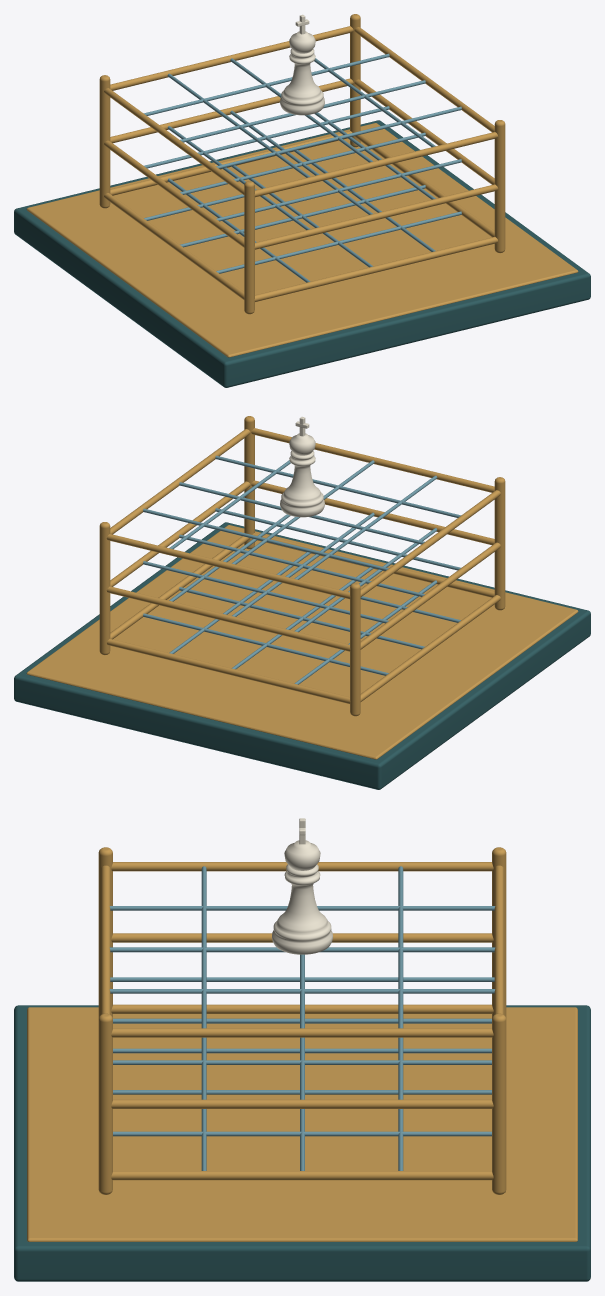
File: game_board.h.glb
3 renders of one model, top to bottom at view 1: azimuth 30°, elevation 25°; view 2: azimuth 150°, elevation 25°; view 3: azimuth 270°, elevation 25°, orthographic. The views are drawn at different scales.
Parts seen in each view (by area): view 1: Cube.001, Cube, K.002, Cylinder.010, Cylinder, Cylinder.020, Cylinder.022, Cylinder.033, Cylinder.032, Cylinder.030, Cylinder.012, Cylinder.013 (+24 smaller); view 2: Cube.001, Cube, K.002, Cylinder.012, Cylinder.002, Cylinder.022, Cylinder.020, Cylinder.031, Cylinder.030, Cylinder.032, Cylinder.010, Cylinder.013 (+24 smaller); view 3: Cube.001, Cube, K.002, Cylinder.001, Cylinder.011, Cylinder.021, Cylinder.003, Cylinder.023, Cylinder.013, Cylinder.031, Cylinder.033, Cylinder.008 (+14 smaller).
Boxes of the visible parts, x1=… form: Cube.001: x1=26, y1=123, x2=578, y2=357; Cube: x1=14, y1=120, x2=590, y2=387; K.002: x1=280, y1=14, x2=324, y2=115; Cylinder.010: x1=254, y1=184, x2=498, y2=249; Cylinder: x1=254, y1=237, x2=497, y2=301; Cylinder.020: x1=254, y1=132, x2=498, y2=197; Cylinder.022: x1=110, y1=26, x2=353, y2=90; Cylinder.033: x1=494, y1=120, x2=505, y2=253; Cylinder.032: x1=99, y1=75, x2=110, y2=208; Cylinder.030: x1=244, y1=181, x2=254, y2=314; Cylinder.012: x1=110, y1=78, x2=353, y2=143; Cylinder.013: x1=104, y1=140, x2=244, y2=247; Cube.001: x1=26, y1=525, x2=578, y2=759; Cube: x1=14, y1=522, x2=590, y2=789; K.002: x1=280, y1=416, x2=324, y2=517; Cylinder.012: x1=106, y1=586, x2=350, y2=651; Cylinder.002: x1=107, y1=639, x2=350, y2=703; Cylinder.022: x1=106, y1=534, x2=350, y2=599; Cylinder.020: x1=251, y1=428, x2=494, y2=492; Cylinder.031: x1=99, y1=522, x2=110, y2=655; Cylinder.030: x1=494, y1=477, x2=505, y2=610; Cylinder.032: x1=350, y1=583, x2=360, y2=716; Cylinder.010: x1=251, y1=480, x2=494, y2=545; Cylinder.013: x1=360, y1=542, x2=500, y2=649; Cube.001: x1=27, y1=1007, x2=577, y2=1241; Cube: x1=14, y1=1005, x2=590, y2=1281; K.002: x1=272, y1=818, x2=332, y2=954; Cylinder.001: x1=111, y1=1171, x2=493, y2=1180; Cylinder.011: x1=111, y1=1099, x2=493, y2=1108; Cylinder.021: x1=111, y1=1028, x2=493, y2=1037; Cylinder.003: x1=111, y1=1004, x2=493, y2=1013; Cylinder.023: x1=111, y1=862, x2=493, y2=871; Cylinder.013: x1=111, y1=933, x2=493, y2=942; Cylinder.031: x1=492, y1=1013, x2=506, y2=1194; Cylinder.033: x1=98, y1=1013, x2=112, y2=1194; Cylinder.008: x1=113, y1=1131, x2=491, y2=1136.
Bounding box in the file's own units: 4.4 × 2.88 × 4.4.
